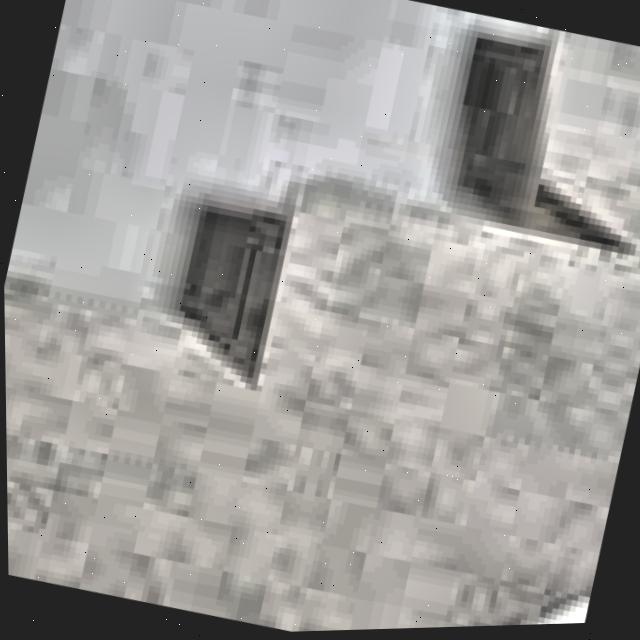paper: (3, 34, 640, 633)
